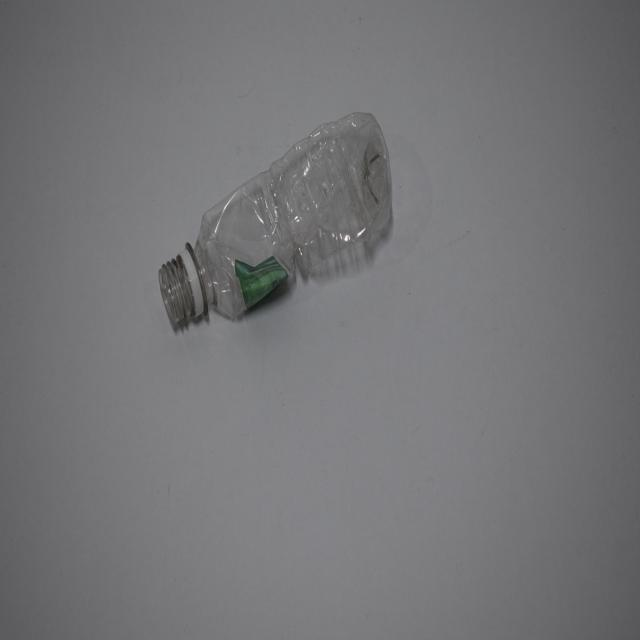plastic: (156, 105, 394, 338)
